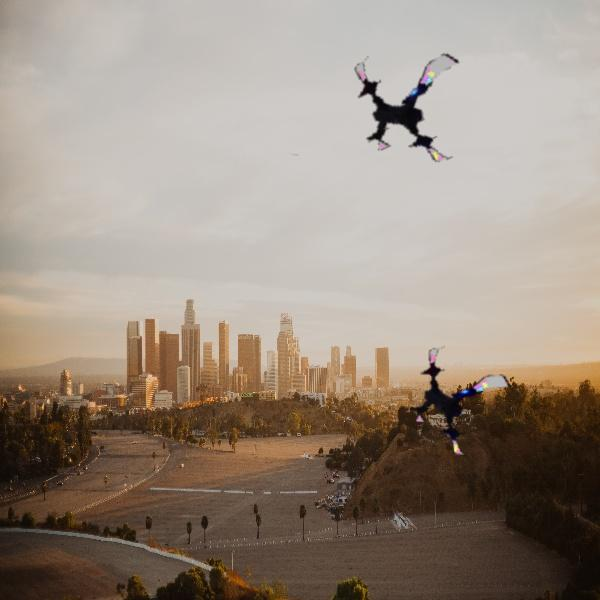drone: (351, 36, 490, 175), (406, 345, 524, 463)
